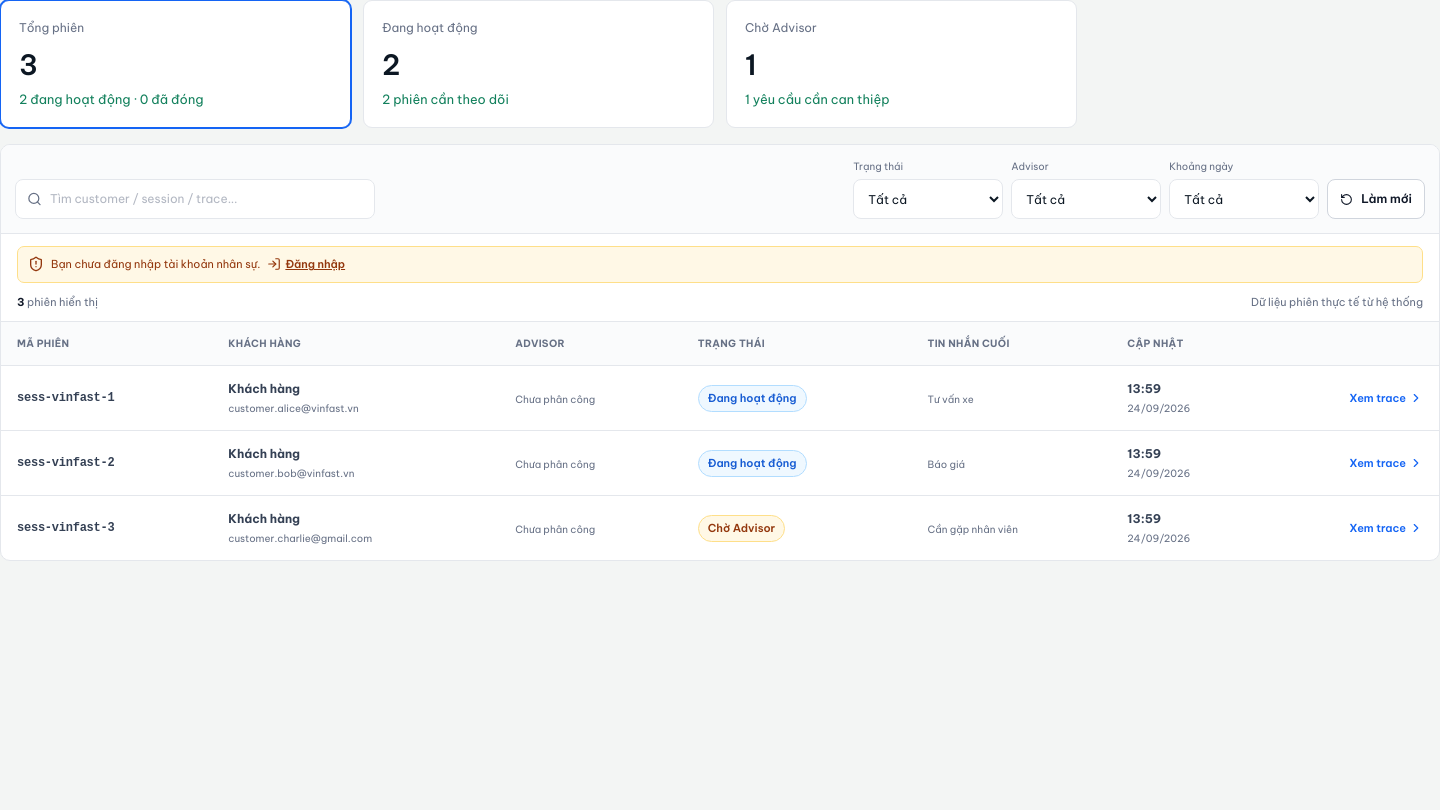
Test: ChatSessionList & Dynamic KPIs › 5. KPI Independence: Tìm kiếm trong bảng lọc dữ liệu nhưng không thay đổi KPI
This screenshot has width=1440, height=810.
Expected: the number of rows is 4, [1,322,1439,366]; [1,366,1439,431]; [1,431,1439,496]; [1,496,1439,560]
Note: Gõ tìm kiếm "charlie"
Type "charlie" into the field with placeholder "Tìm customer / session / trace...".
click(206, 199); type("charlie")  # box [50,190,363,208]
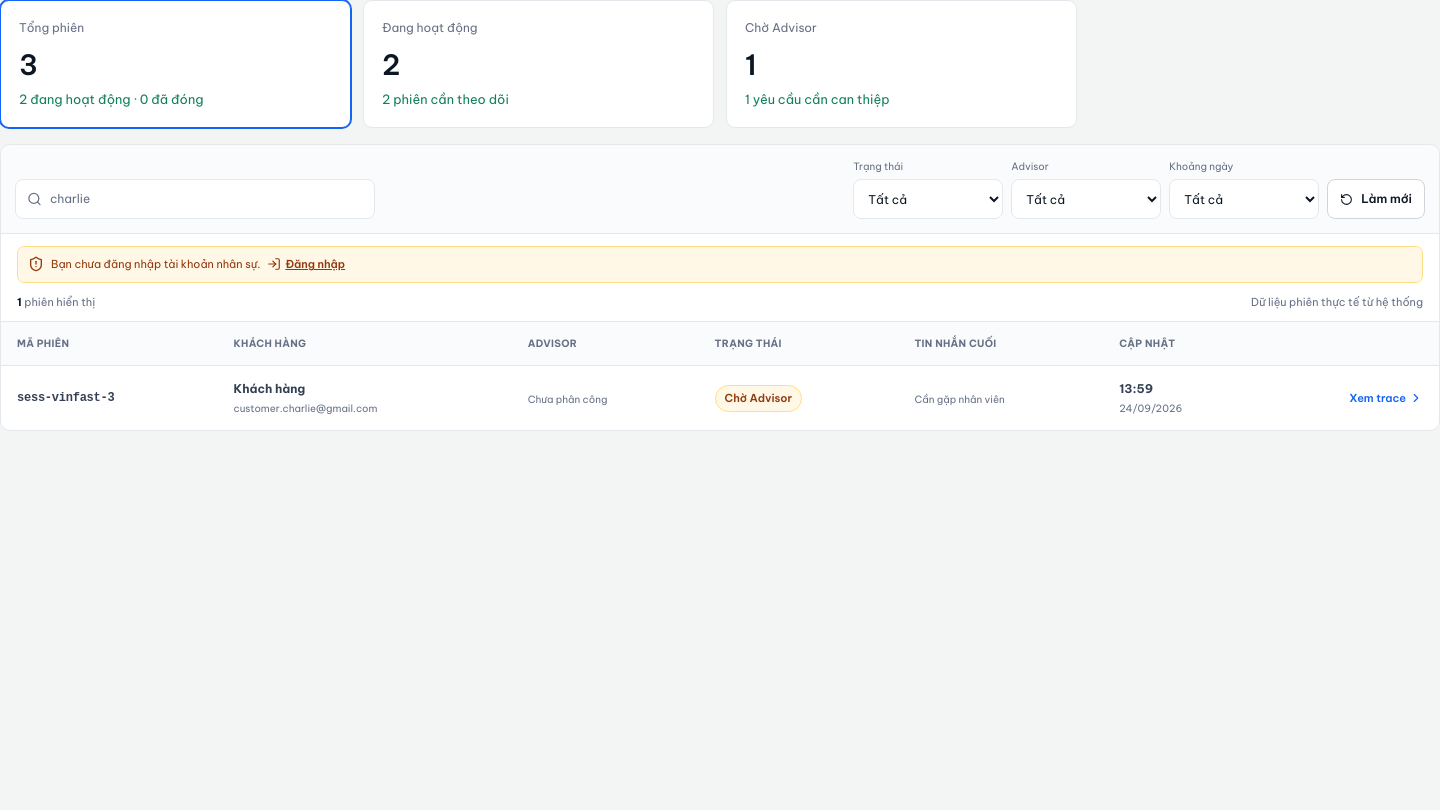
Expected: the text "sess-vinfast-3" is shown, [17,389,114,407]
Result: the number of rows is 2 at [1,322,1439,366]; [1,366,1439,430]
Result: the text "sess-vinfast-1" is gone
